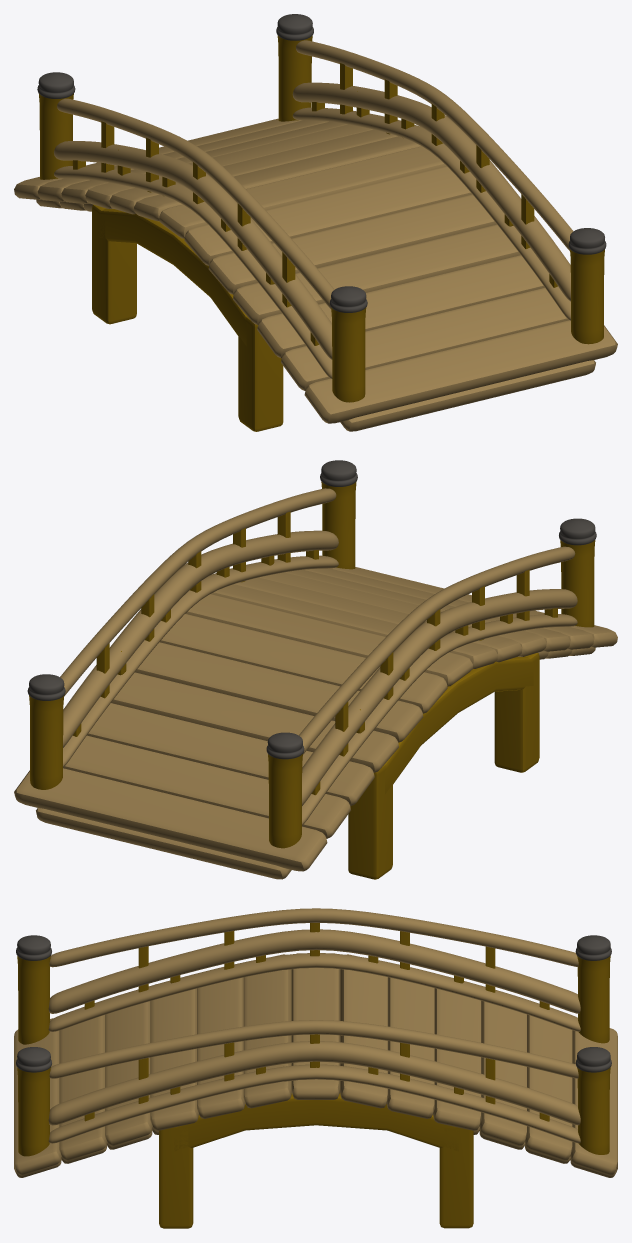
The model's file is BRIDGE.fbx.
3 renders of one model, top to bottom at view 1: azimuth 30°, elevation 25°; view 2: azimuth 150°, elevation 25°; view 3: azimuth 270°, elevation 25°, orthographic. The views are drawn at different scales.
Parts seen in each view (by area): view 1: pCube342, pCube343, pCube344, polySurface535, polySurface536, polySurface537, polySurface539, polySurface538, polySurface540, pCube306, pCube319, polySurface534 (+5 smaller); view 2: pCube342, pCube343, pCube344, polySurface529, polySurface530, polySurface531, polySurface533, polySurface532, polySurface534, pCube306, pCube319, polySurface540 (+5 smaller); view 3: pCube342, pCube343, pCube345, polySurface540, polySurface534, pCube306, polySurface532, polySurface538, polySurface530, polySurface536, polySurface539, polySurface533 (+5 smaller).
Boxes of the visible parts, x1,y1,x2,y2 form: pCube342: (37,72,367,402); pCube343: (276,14,606,344); pCube344: (92,204,283,431); polySurface535: (304,320,617,423); polySurface536: (281,288,569,390); polySurface537: (257,255,544,358); polySurface539: (208,194,496,294); polySurface538: (233,224,520,324); polySurface540: (184,166,472,265); pCube306: (159,146,446,238); pCube319: (36,199,595,431); polySurface534: (134,136,421,221); pCube342: (266,518,596,848); pCube343: (27,460,357,789); pCube344: (348,652,539,879); polySurface529: (14,768,327,871); polySurface530: (63,735,350,838); polySurface531: (87,703,374,806); polySurface533: (135,642,423,742); polySurface532: (111,672,398,772); polySurface534: (159,614,447,713); pCube306: (185,594,472,686); pCube319: (36,647,595,879); polySurface540: (211,584,497,668); pCube342: (16,908,611,1044); pCube343: (16,1020,611,1156); pCube345: (159,1093,473,1228); polySurface540: (243,954,291,1108); polySurface534: (340,954,388,1108); pCube306: (291,953,340,1099); polySurface532: (433,988,481,1130); polySurface538: (150,984,198,1130); polySurface530: (525,1014,572,1160); polySurface536: (59,1015,106,1160); polySurface539: (197,977,245,1118); polySurface533: (386,977,434,1118).
Size of the model in its own units: 455 by 319 by 844.
